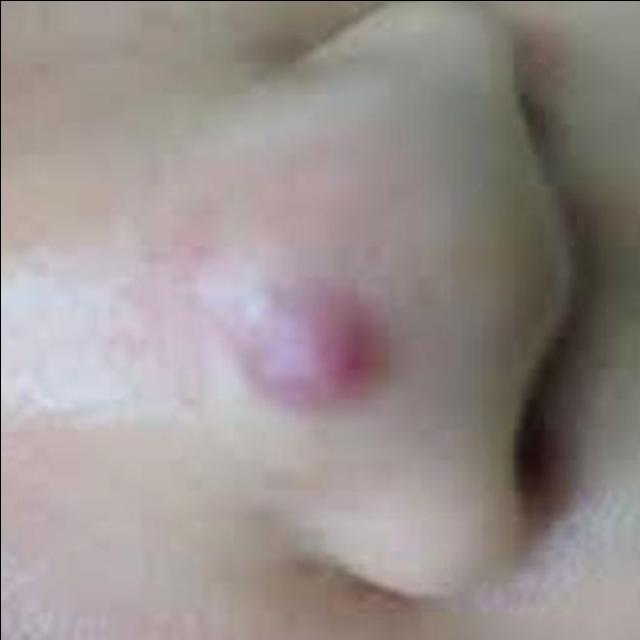nodule: (224, 284, 405, 421)
